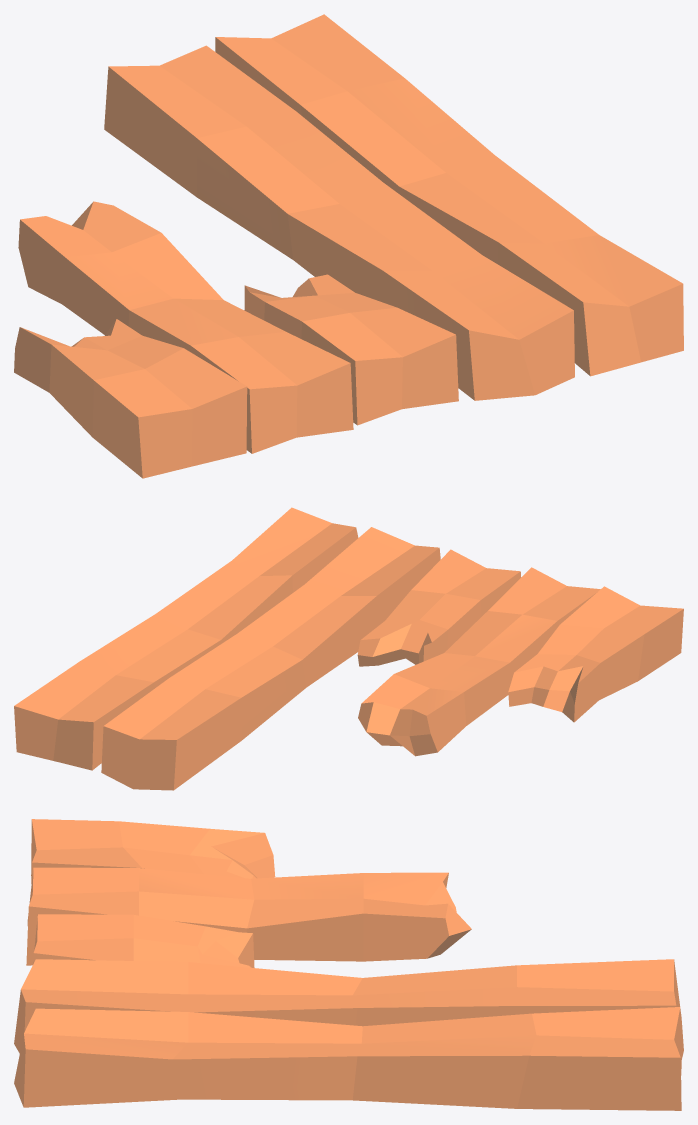
Rendered from PlatformS_Wood3.fbx.
3 views of the same model, one above another, from view 1: azimuth 30°, elevation 25°; view 2: azimuth 150°, elevation 25°; view 3: azimuth 270°, elevation 25° (orthographic). The views are drawn at different scales.
Visible parts, largest first — view 1: WoodPlank4, WoodPlank5, WoodPlank7, WoodPlank11, WoodPlank12; view 2: WoodPlank4, WoodPlank5, WoodPlank7, WoodPlank11, WoodPlank12; view 3: WoodPlank5, WoodPlank4, WoodPlank7, WoodPlank11, WoodPlank12.
Part boxes in pixels (x1=…): WoodPlank4: x1=104, y1=45, x2=574, y2=400; WoodPlank5: x1=215, y1=14, x2=683, y2=376; WoodPlank7: x1=18, y1=201, x2=353, y2=453; WoodPlank11: x1=14, y1=319, x2=247, y2=478; WoodPlank12: x1=244, y1=274, x2=458, y2=425; WoodPlank4: x1=101, y1=527, x2=440, y2=790; WoodPlank5: x1=14, y1=507, x2=358, y2=770; WoodPlank7: x1=358, y1=567, x2=600, y2=756; WoodPlank11: x1=508, y1=586, x2=683, y2=722; WoodPlank12: x1=357, y1=549, x2=521, y2=666; WoodPlank5: x1=14, y1=1007, x2=681, y2=1110; WoodPlank4: x1=14, y1=959, x2=683, y2=1059; WoodPlank7: x1=26, y1=867, x2=471, y2=965; WoodPlank11: x1=31, y1=819, x2=275, y2=883; WoodPlank12: x1=33, y1=914, x2=254, y2=967.
Bounding box in the file's own units: 334 × 44.39 × 396.
